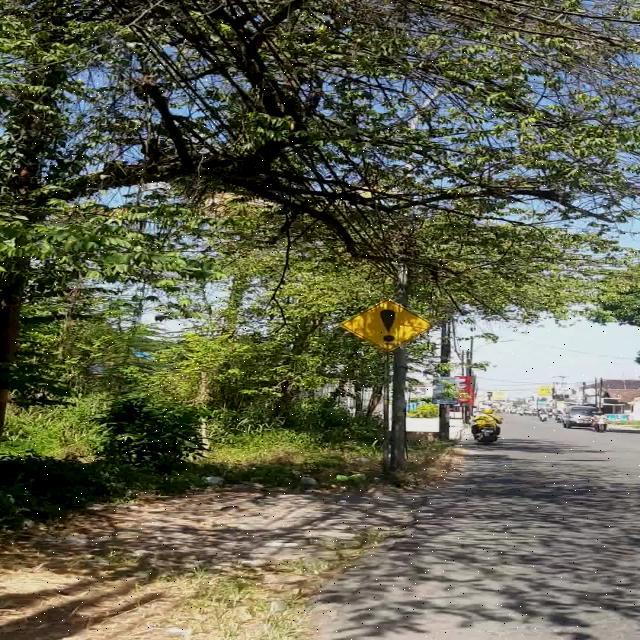Hati-Hati: (338, 298, 434, 352)
